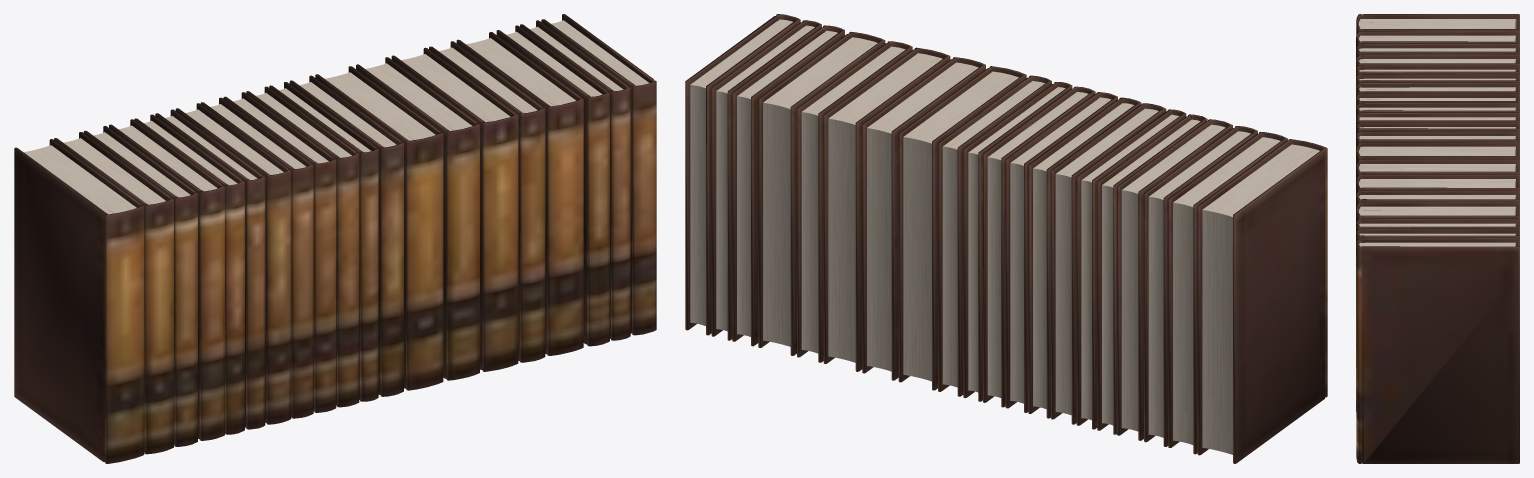
File: book_encyclopedia_set_01.glb
3 renders of one model, left to right at view 1: azimuth 30°, elevation 25°; view 2: azimuth 150°, elevation 25°; view 3: azimuth 270°, elevation 25°, orthographic. The views are drawn at different scales.
Parts seen in each view (by area): view 1: book_encyclopedia_set_01_book01; view 2: book_encyclopedia_set_01_book01; view 3: book_encyclopedia_set_01_book01.
Boxes of the visible parts, bbox=[...] form: book_encyclopedia_set_01_book01: bbox=[14, 14, 656, 463]; book_encyclopedia_set_01_book01: bbox=[685, 14, 1327, 463]; book_encyclopedia_set_01_book01: bbox=[1356, 14, 1519, 463].
Bounding box in the file's own units: 0.5513 × 0.2374 × 0.1631.
2 materials, 2 textured.
